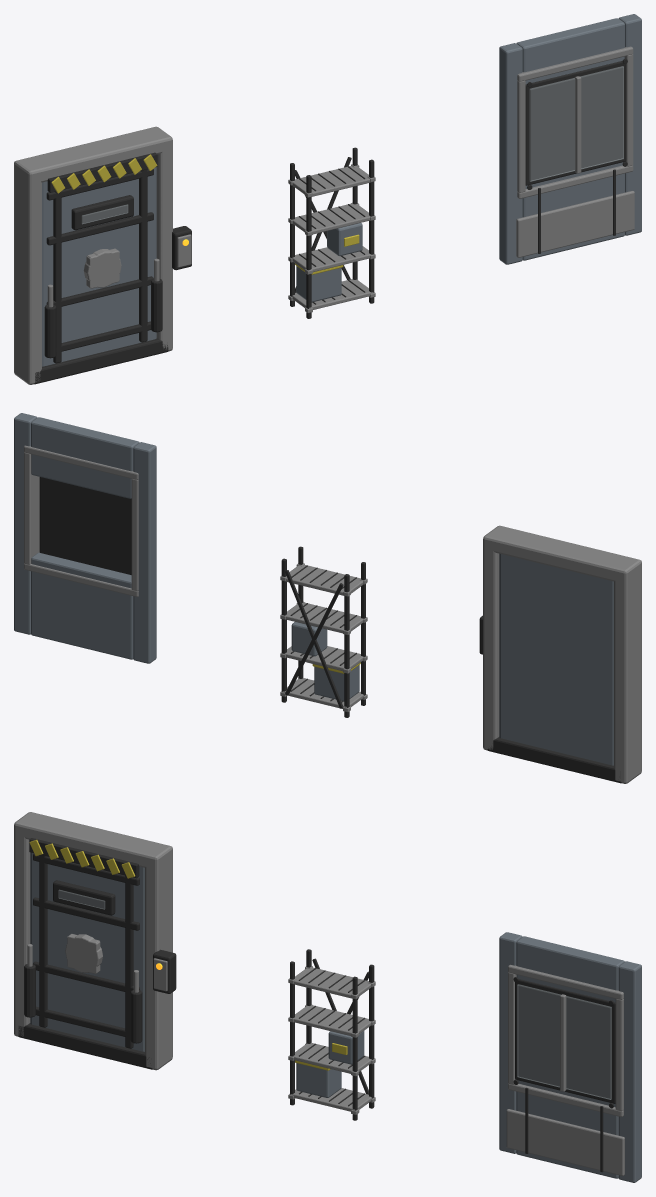
File: kit_special.glb
3 views of the same model, one above another, from view 1: azimuth 30°, elevation 25°; view 2: azimuth 150°, elevation 25°; view 3: azimuth 330°, elevation 25° (orthographic).
Visible parts, largest first — view 1: kit_blast_door, kit_observation_window, kit_shelving; view 2: kit_blast_door, kit_observation_window, kit_shelving; view 3: kit_blast_door, kit_observation_window, kit_shelving.
Boxes of the visible parts, left/top/right/bottom form: kit_blast_door: left=14, top=126, right=191, bottom=384; kit_observation_window: left=499, top=14, right=641, bottom=264; kit_shelving: left=288, top=147, right=375, bottom=318; kit_blast_door: left=479, top=525, right=641, bottom=783; kit_observation_window: left=14, top=413, right=156, bottom=663; kit_shelving: left=280, top=546, right=367, bottom=717; kit_blast_door: left=14, top=812, right=176, bottom=1070; kit_observation_window: left=499, top=932, right=641, bottom=1182; kit_shelving: left=288, top=949, right=375, bottom=1120.
Size of the model in its own units: 9.06 by 3 by 0.612.
